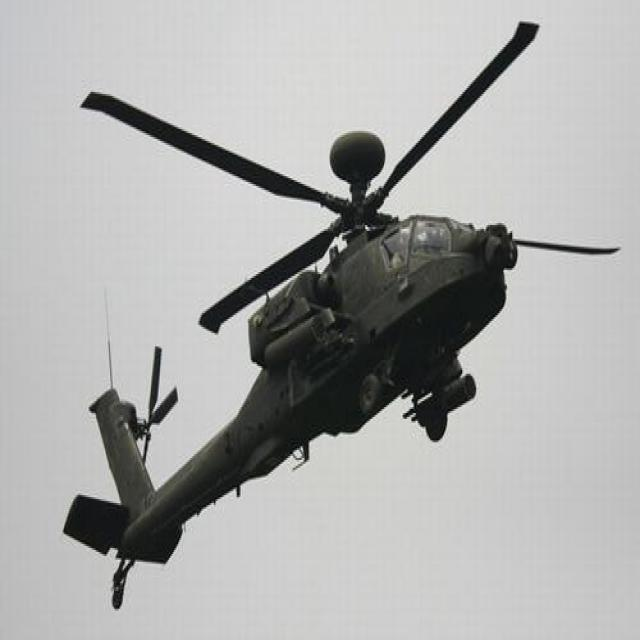MIL_HELO: (62, 17, 622, 611)
